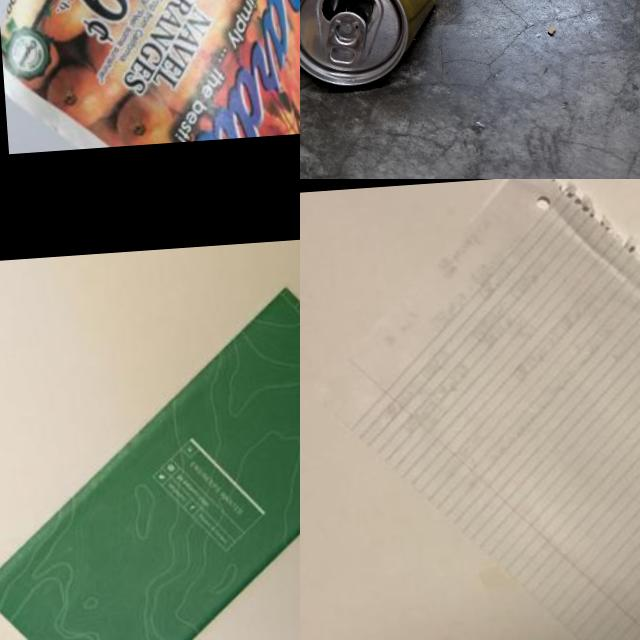aba de lata: (322, 10, 368, 71)
lata: (300, 0, 467, 92)
papel: (305, 179, 640, 640), (0, 277, 300, 640), (0, 0, 300, 153)
